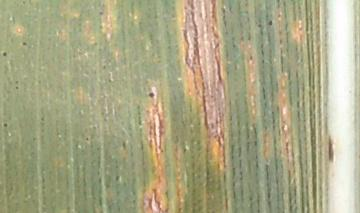tarspot: (264, 17, 274, 28), (146, 90, 156, 99), (1, 50, 9, 59), (21, 40, 28, 47), (2, 122, 8, 129), (14, 80, 20, 87), (98, 9, 104, 16), (14, 85, 20, 91), (85, 137, 90, 143)
